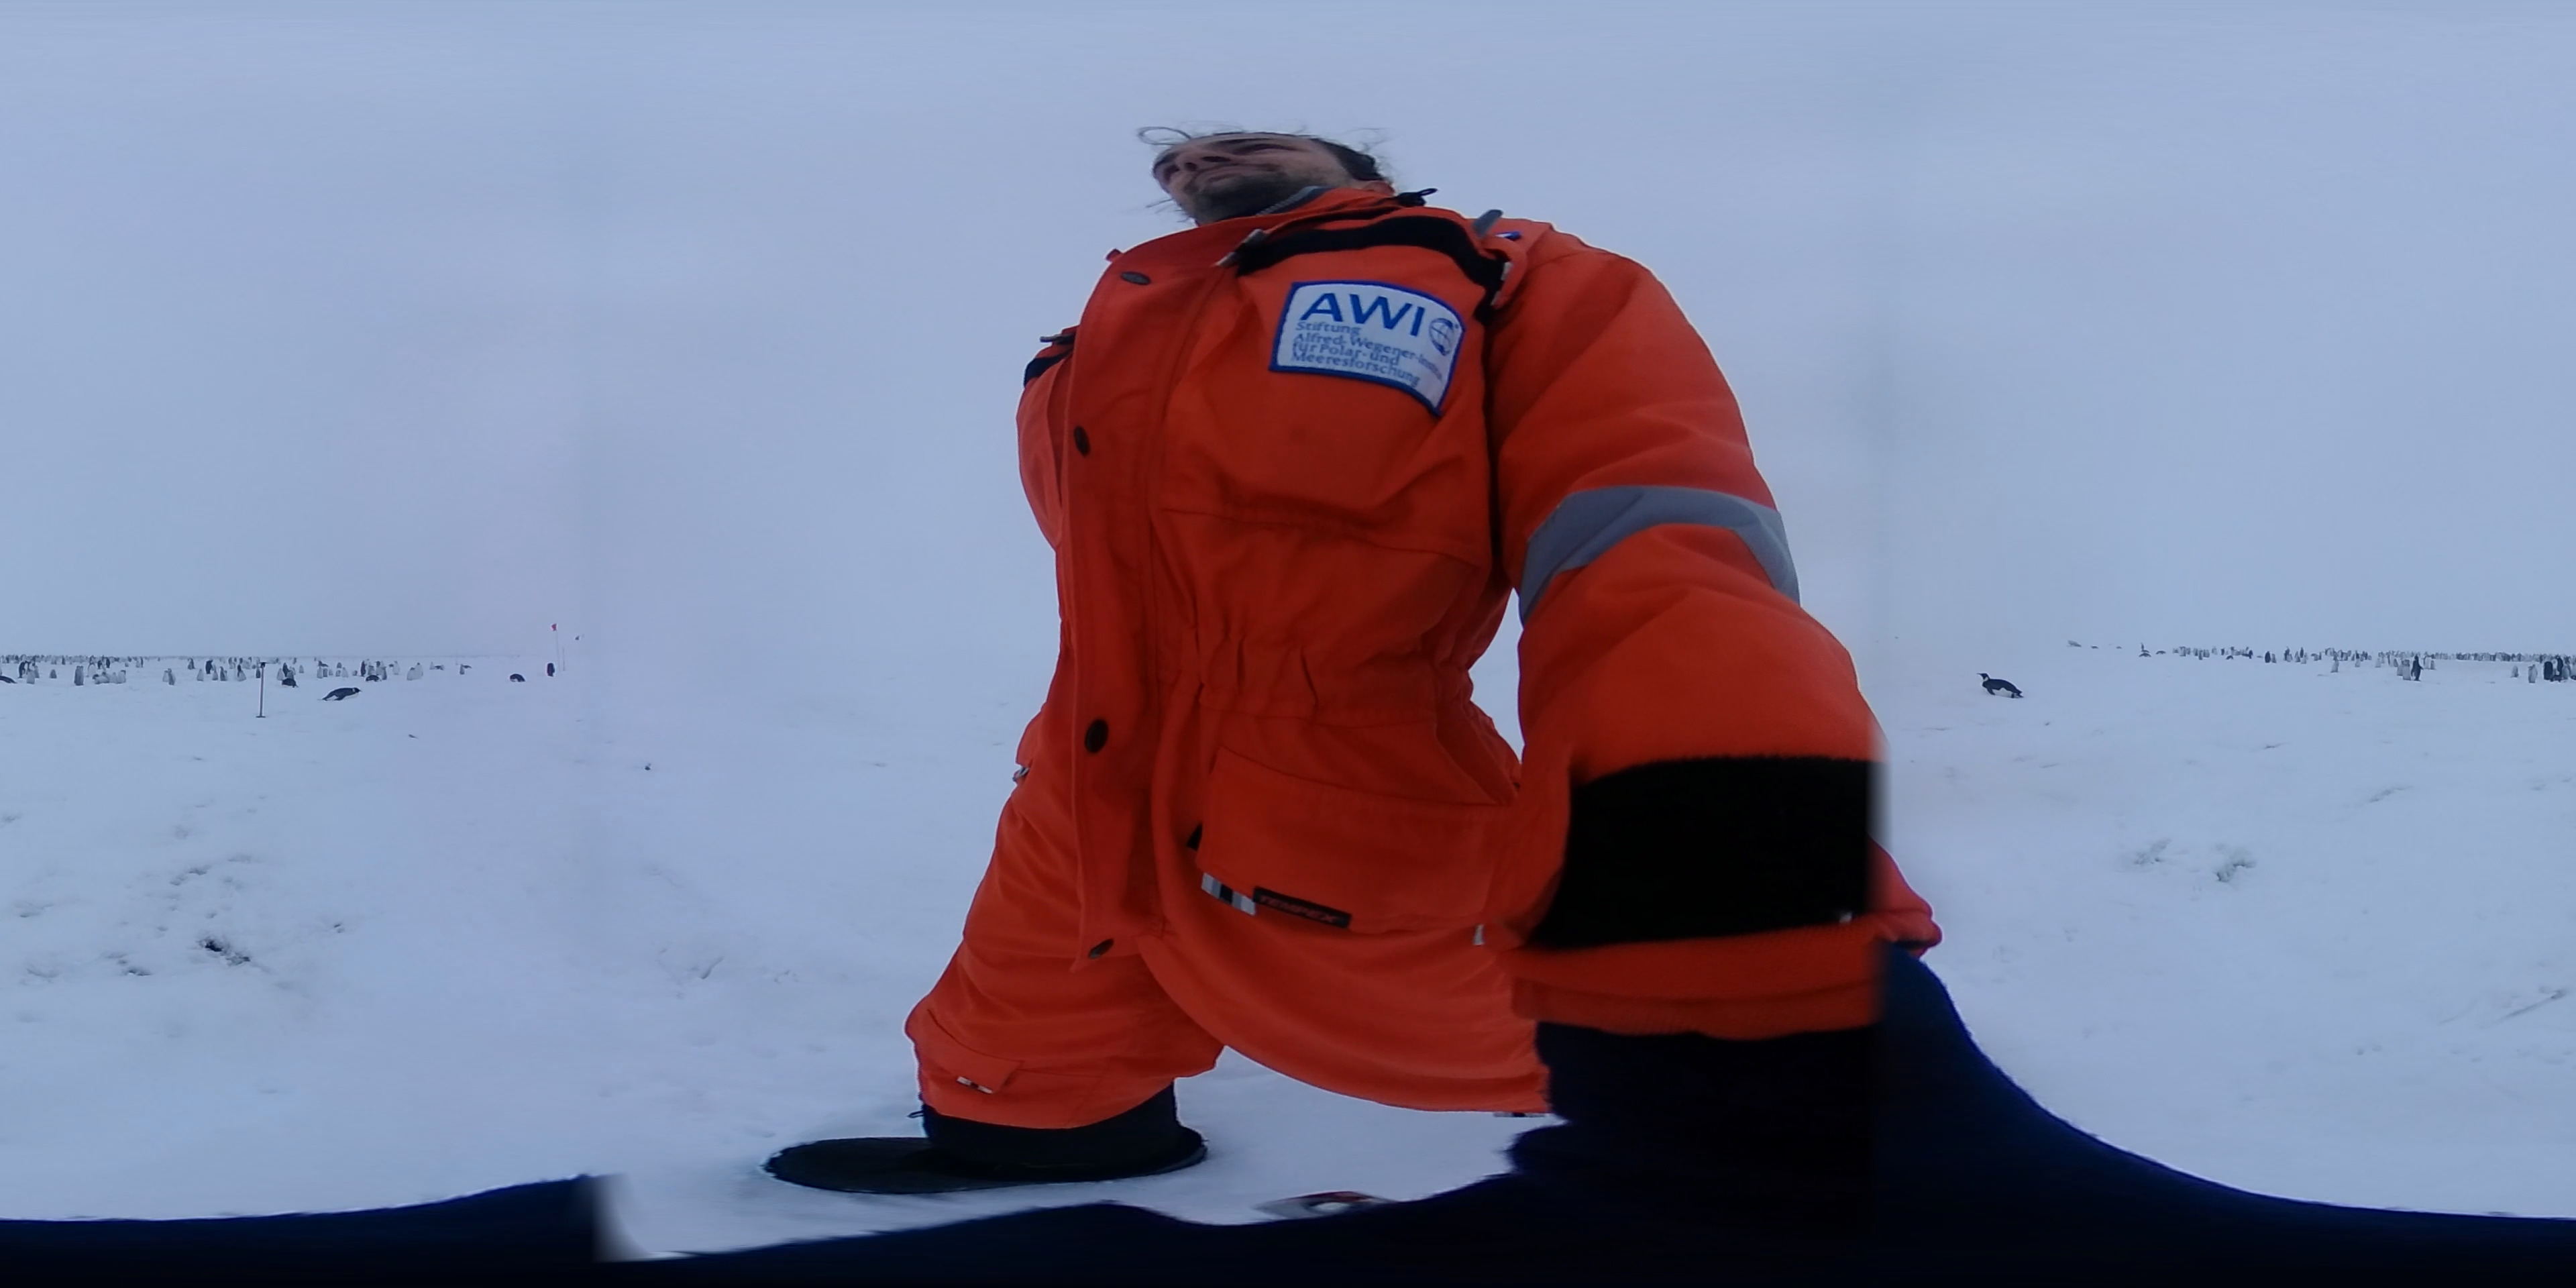adult_standing_penguin: (542, 660, 560, 680)
adult_toboggan_penguin: (1975, 669, 2027, 700), (319, 685, 361, 701), (508, 670, 531, 685)
researcher: (853, 82, 1943, 1267)
